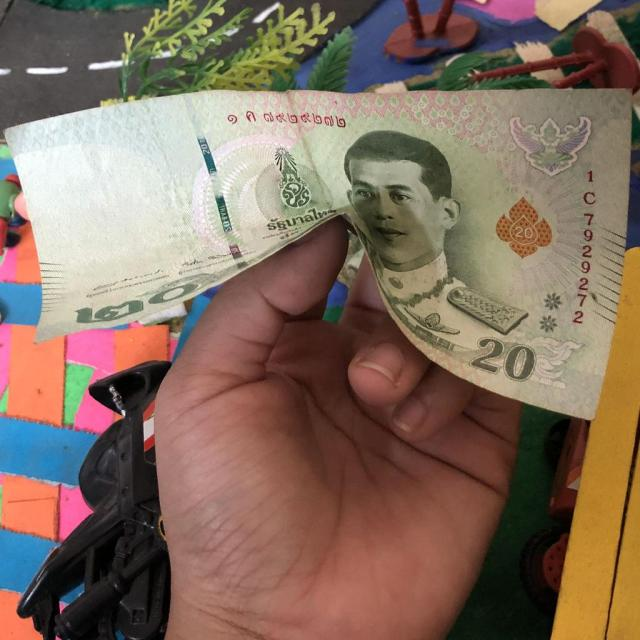THAI20: (6, 88, 632, 418)
